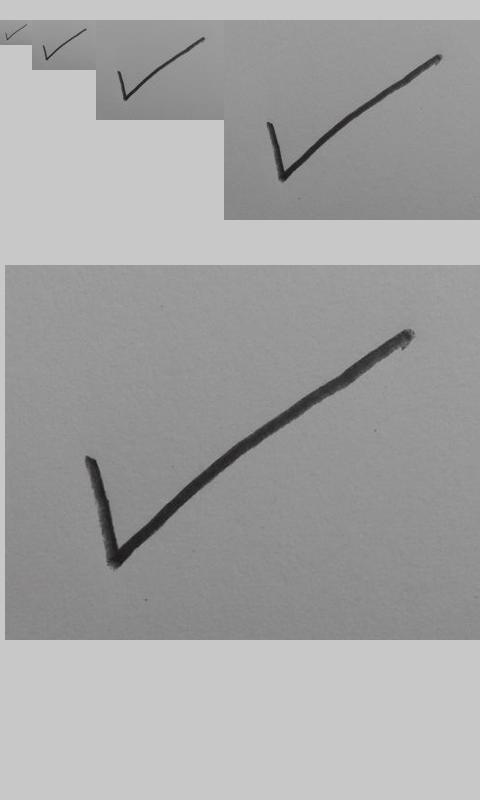check_box: (85, 331, 411, 569), (267, 54, 439, 183), (117, 37, 205, 101), (42, 29, 87, 60), (5, 24, 27, 40)
